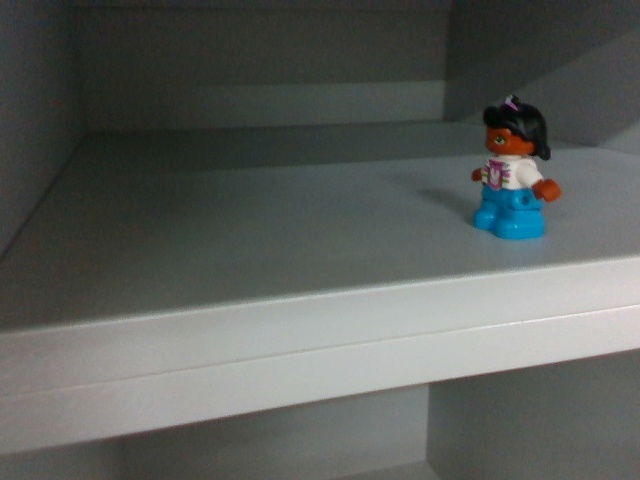people: (474, 99, 563, 246)
